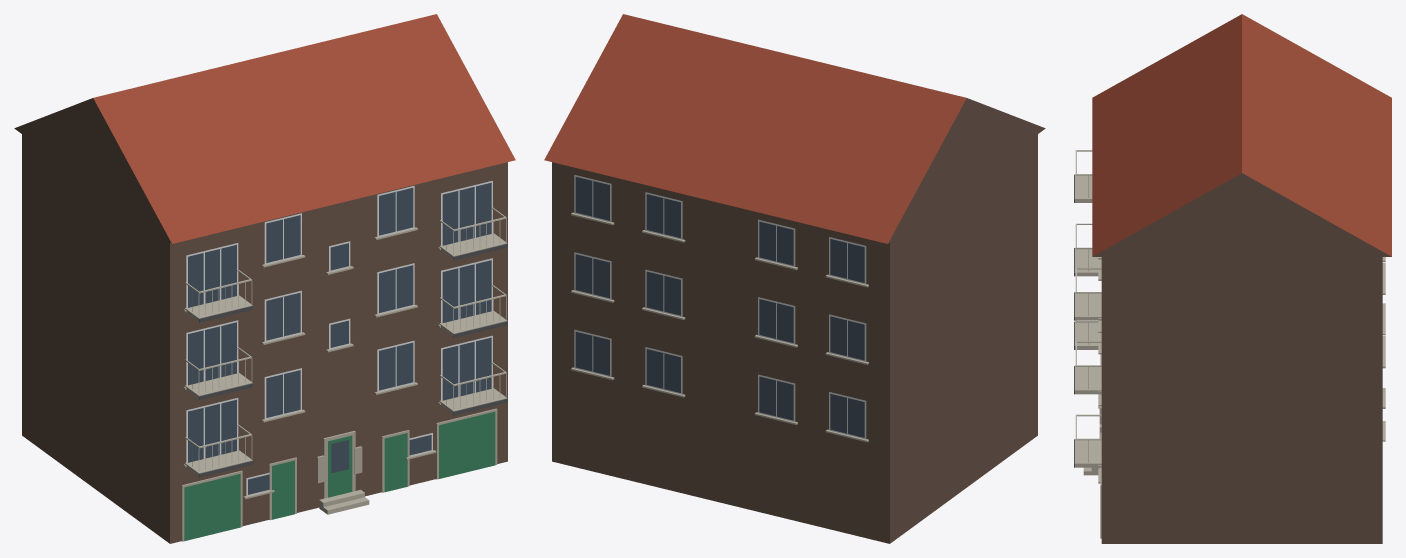
Rendered from nw-portiek-hof-garage-4st__brown-green__4__gable__long__solid.glb.
3 renders of one model, left to right at view 1: azimuth 30°, elevation 25°; view 2: azimuth 150°, elevation 25°; view 3: azimuth 270°, elevation 25°, orthographic. The views are drawn at different scales.
Visible parts, largest first — view 1: nw-portiek-hof-garage-4st__brown-green__4__gable__long__soli; view 2: nw-portiek-hof-garage-4st__brown-green__4__gable__long__soli; view 3: nw-portiek-hof-garage-4st__brown-green__4__gable__long__soli.
Boxes of the visible parts, x1,y1,x2,y2 form: nw-portiek-hof-garage-4st__brown-green__4__gable__long__soli: (14, 14, 515, 543); nw-portiek-hof-garage-4st__brown-green__4__gable__long__soli: (544, 14, 1045, 543); nw-portiek-hof-garage-4st__brown-green__4__gable__long__soli: (1074, 14, 1391, 543).
Bounding box in the file's own units: 14.03 × 15.32 × 11.85.
